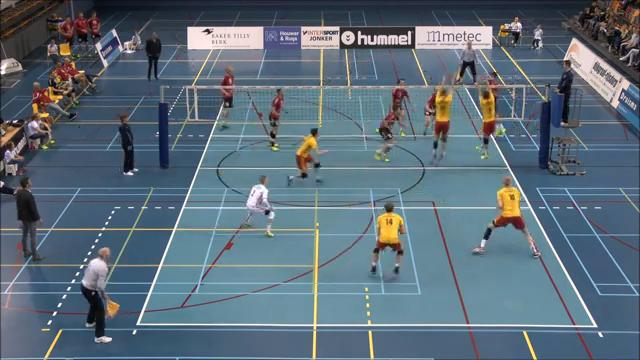Attack: (487, 66, 510, 138)
Block: (429, 70, 457, 167), (473, 78, 497, 163)
Player: (473, 176, 539, 257), (371, 202, 404, 274), (244, 175, 274, 236), (296, 128, 327, 178), (375, 105, 400, 161), (220, 66, 234, 129), (269, 89, 283, 150), (392, 79, 410, 123), (423, 89, 436, 135)
ball: (454, 73, 463, 84)
